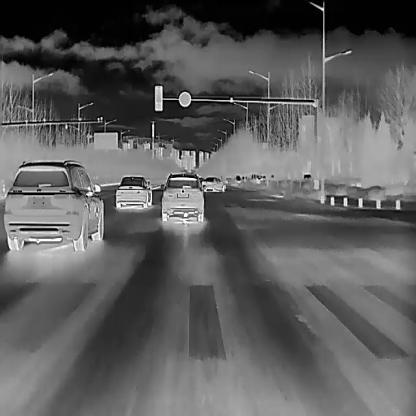car: (3, 159, 103, 251), (160, 170, 206, 221), (115, 175, 151, 207), (202, 175, 226, 190), (232, 174, 241, 183), (301, 173, 311, 179)
